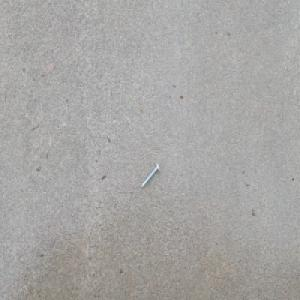Nail: (140, 161, 160, 189)
